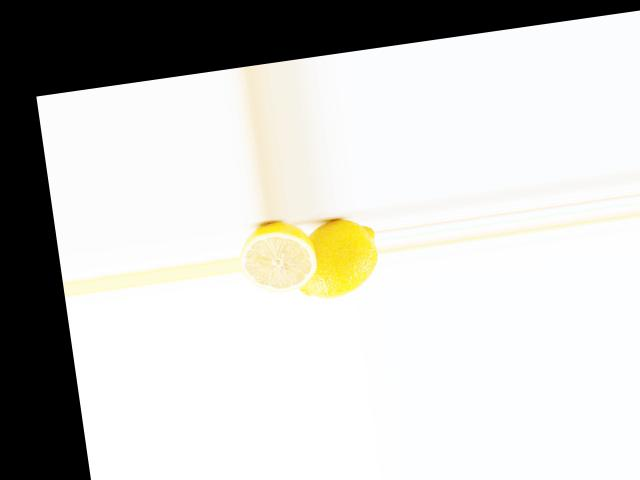lemon: (287, 210, 381, 304)
